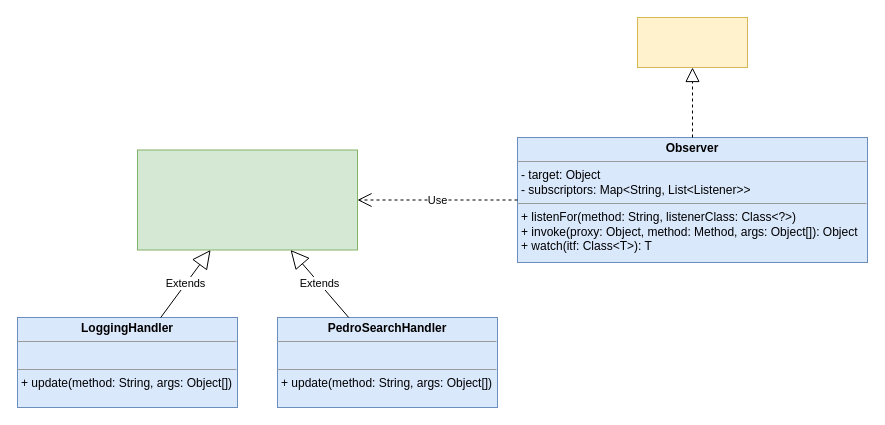
Image size: 885x425. Some labels were removed from this diagram. The centre of each missing label's shape, as x and y in pixels:
"<<Abstract>> Listener # target: Object + update(method: String, args: Object[])" belongs at (x=247, y=199).
"«interface» InvocationHandler" belongs at (x=692, y=42).
